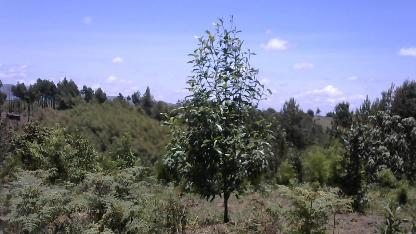tree: (159, 12, 282, 224), (333, 84, 416, 205)
